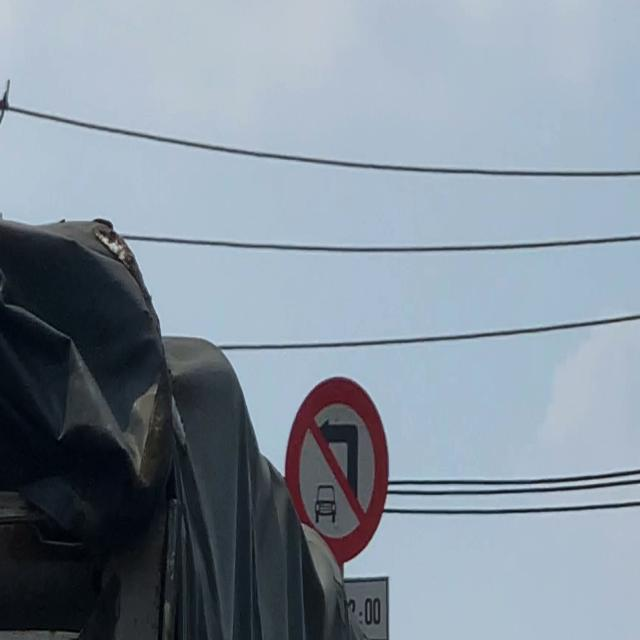Cam re trai: (304, 366, 391, 534)
